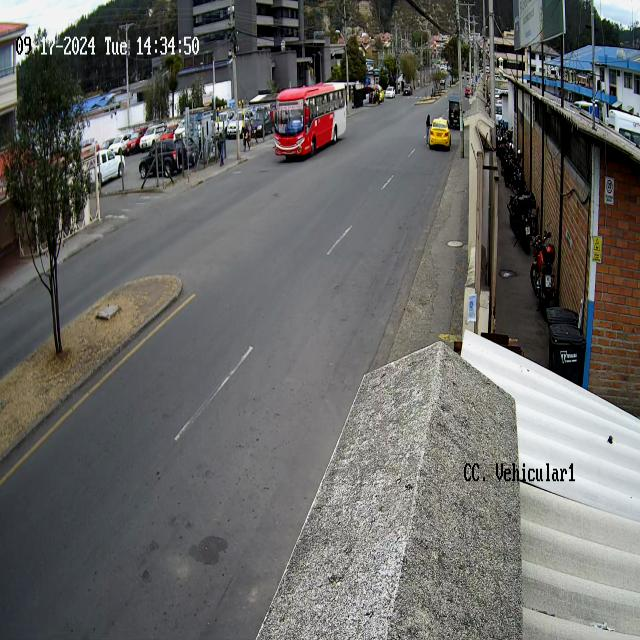BUS: (276, 84, 350, 160)
SED: (429, 117, 452, 152)
